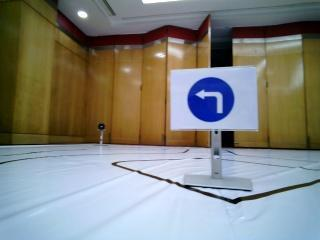left: (175, 71, 255, 129)
